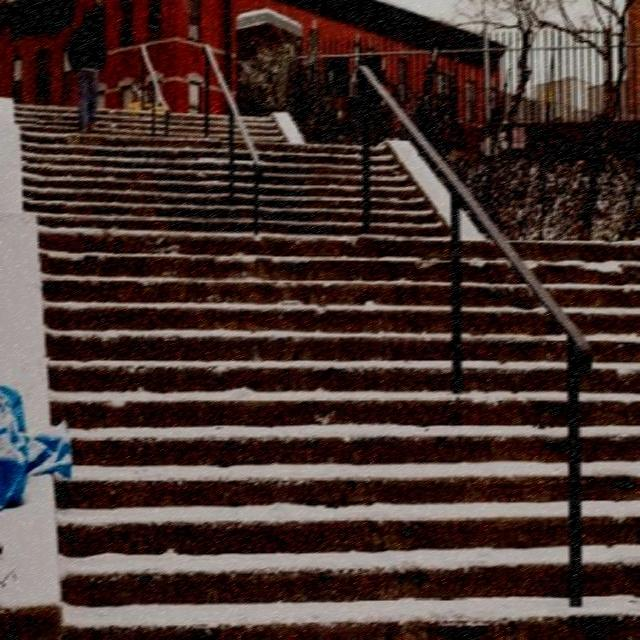stair: (36, 103, 576, 612)
